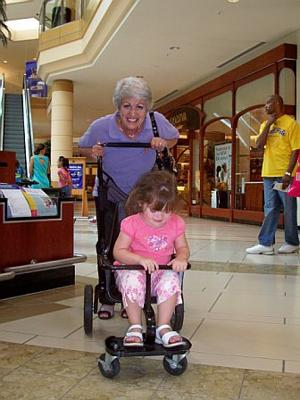person: (76, 77, 179, 321)
